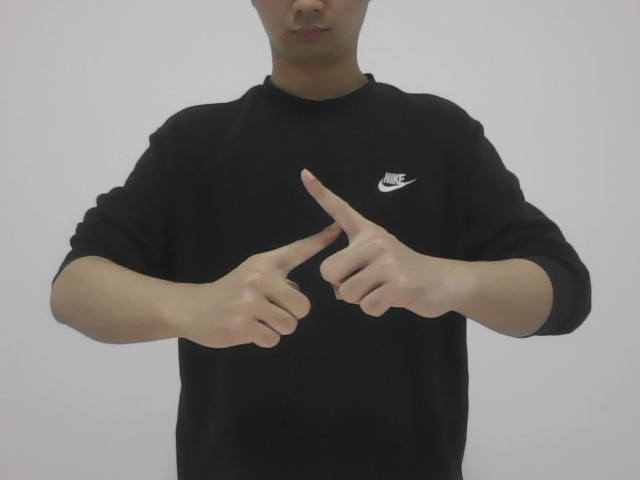peason: (218, 159, 424, 352)
